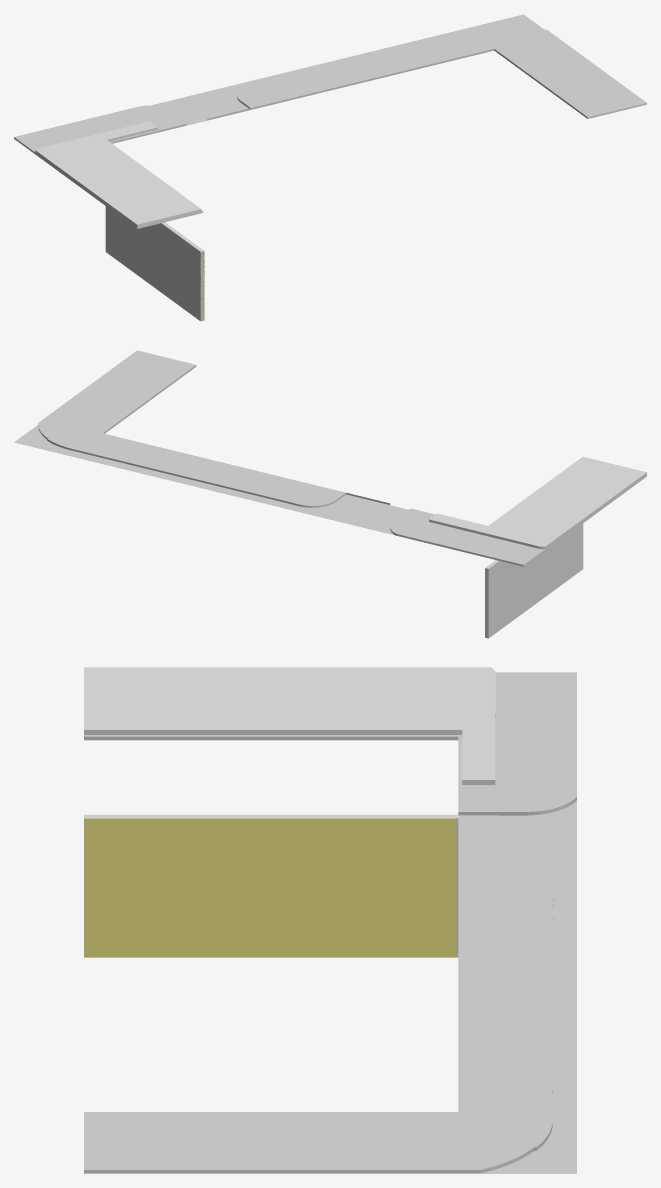
The model's file is BOL-Section-bit.gltf.
3 renders of one model, top to bottom at view 1: azimuth 30°, elevation 25°; view 2: azimuth 150°, elevation 25°; view 3: azimuth 270°, elevation 25°, orthographic. The views are drawn at different scales.
Parts seen in each view (by area): view 1: VisualSceneNode1.19027, VisualSceneNode1.19839, VisualSceneNode1.19590; view 2: VisualSceneNode1.19027, VisualSceneNode1.19839, VisualSceneNode1.19590; view 3: VisualSceneNode1.19027, VisualSceneNode1.19590, VisualSceneNode1.19839.
Boxes of the visible parts, box(x1,y1,x2,y2) form: VisualSceneNode1.19027: box(14, 14, 646, 228); VisualSceneNode1.19839: box(35, 121, 201, 226); VisualSceneNode1.19590: box(105, 206, 204, 321); VisualSceneNode1.19027: box(14, 350, 646, 566); VisualSceneNode1.19839: box(429, 456, 646, 549); VisualSceneNode1.19590: box(485, 523, 583, 638); VisualSceneNode1.19027: box(84, 672, 576, 1173); VisualSceneNode1.19590: box(84, 814, 458, 957); VisualSceneNode1.19839: box(84, 667, 495, 784).
Size of the model in its own units: 0.862 by 0.1815 by 0.361.
